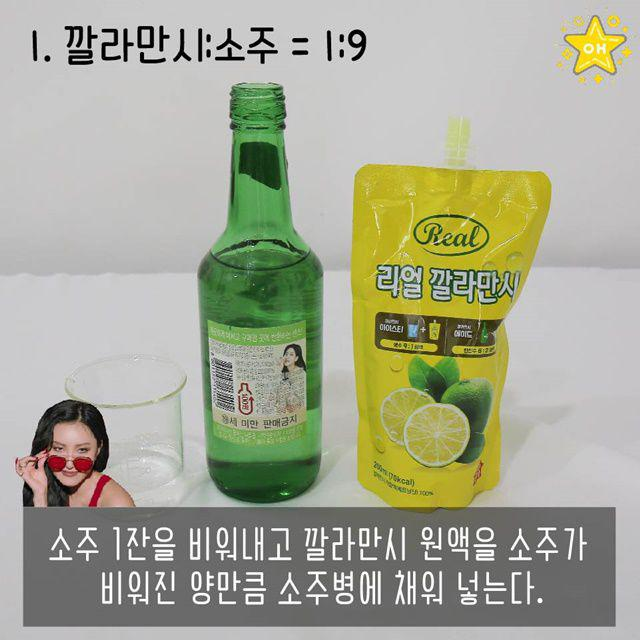soju: (193, 79, 328, 506)
